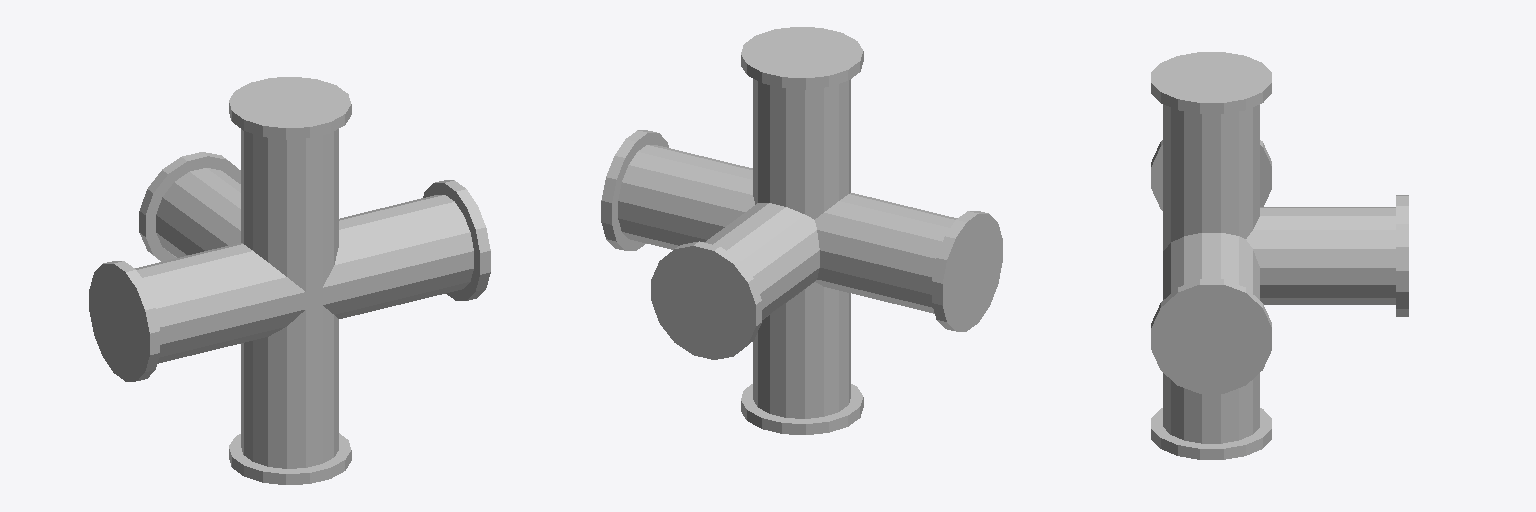
The model's file is pipeworks_pipe_9.obj.
3 views of the same model, side by side, from view 1: azimuth 30°, elevation 25°; view 2: azimuth 150°, elevation 25°; view 3: azimuth 270°, elevation 25° (orthographic).
Visible parts, largest first — view 1: Cube.000; view 2: Cube.000; view 3: Cube.000.
Part boxes in pixels (x1,y1,x2,y2): Cube.000: (89, 77, 490, 484); Cube.000: (601, 27, 1002, 434); Cube.000: (1151, 52, 1408, 459).
Size of the model in its own units: 1 by 1 by 0.6532.